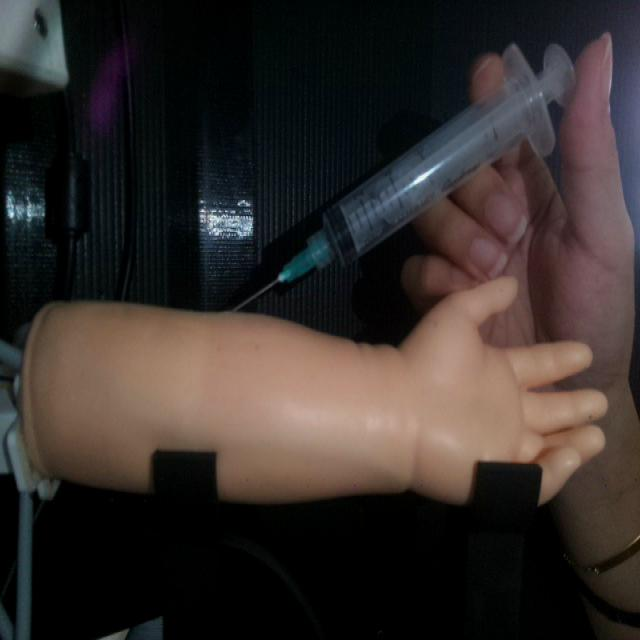Above 30 degrees: (227, 39, 577, 313)
